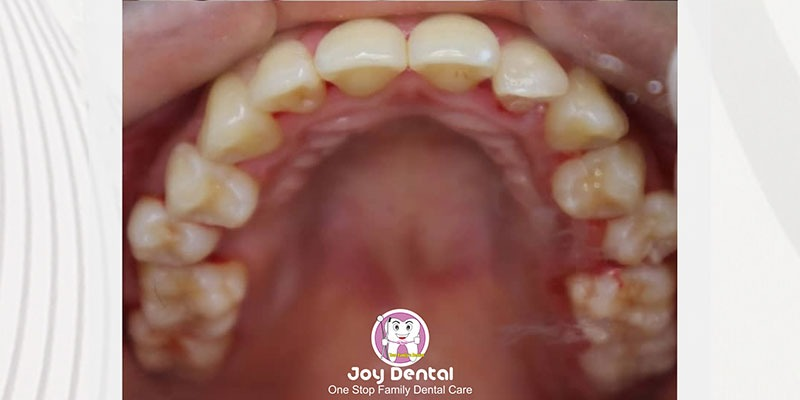UL1BC_healthy: (554, 147, 643, 218)
UL1M_decay: (569, 268, 672, 338)
UL2BC_healthy: (608, 186, 677, 265)
ULCI_healthy: (408, 13, 499, 86)
ULC_healthy: (546, 71, 628, 147)
ULLI_healthy: (499, 41, 568, 112)
UR1BC_healthy: (165, 144, 256, 228)
UR1M_decay: (139, 260, 247, 327)
UR2BC_healthy: (129, 199, 216, 262)
URCI_healthy: (317, 21, 406, 94)
URC_healthy: (199, 76, 279, 160)
URLI_healthy: (251, 41, 318, 112)
